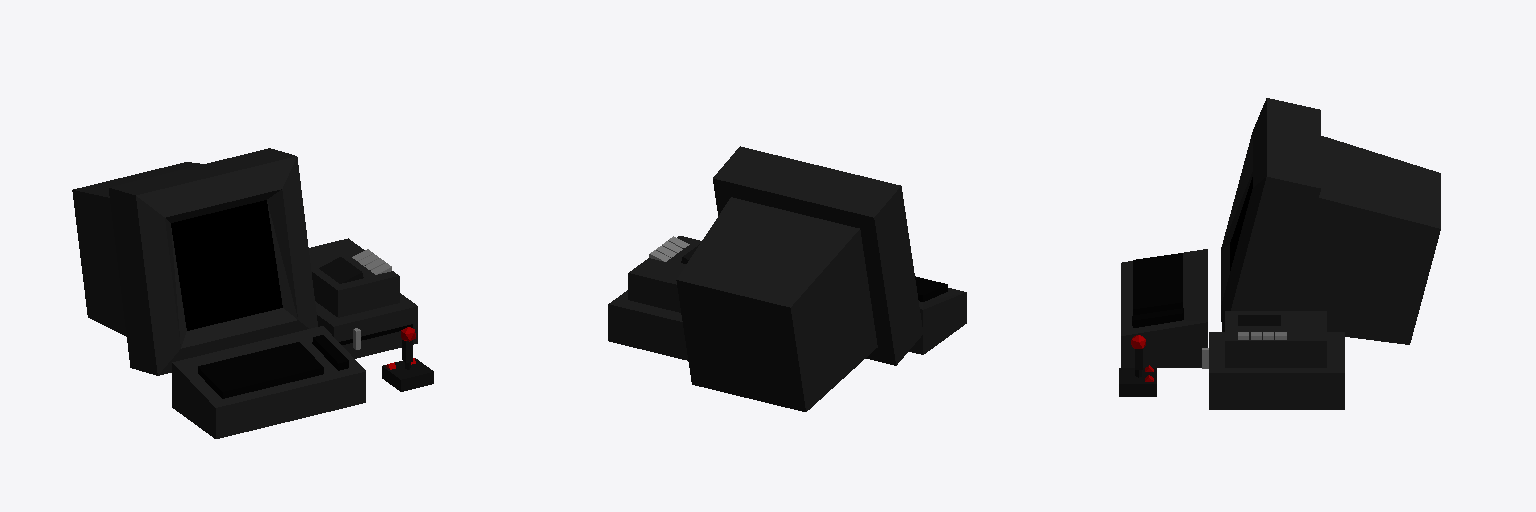
The model's file is oldskool2.obj.
3 renders of one model, left to right at view 1: azimuth 30°, elevation 25°; view 2: azimuth 150°, elevation 25°; view 3: azimuth 270°, elevation 25°, orthographic.
Visible parts, largest first — view 1: Screenpc2_Cube.006; view 2: Screenpc2_Cube.006; view 3: Screenpc2_Cube.006.
Part boxes in pixels (left/top/right/bottom): Screenpc2_Cube.006: left=72, top=148, right=433, bottom=438; Screenpc2_Cube.006: left=608, top=146, right=966, bottom=411; Screenpc2_Cube.006: left=1119, top=98, right=1440, bottom=409.
Size of the model in its own units: 12.06 by 8.75 by 13.26.